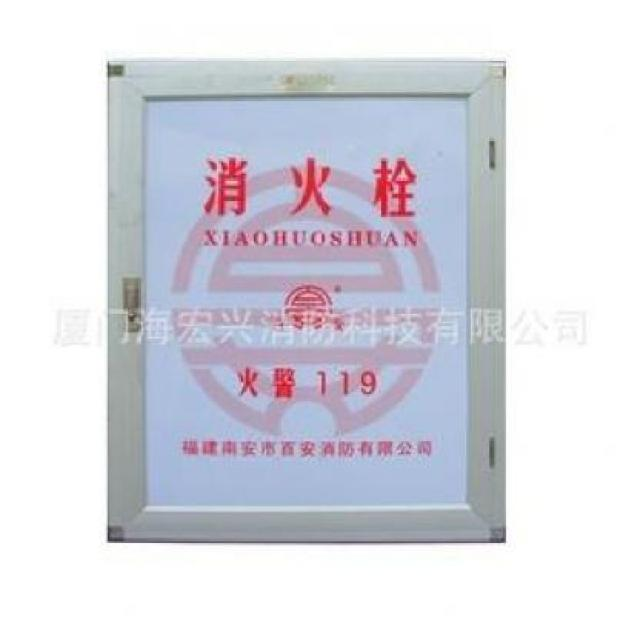firehydrant: (103, 54, 513, 548)
